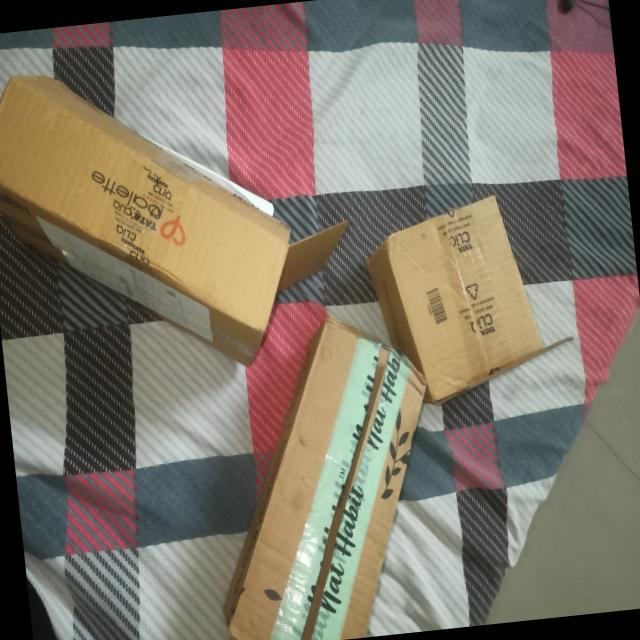cardboard_box: (0, 42, 363, 394), (194, 295, 436, 640), (346, 127, 578, 431)
